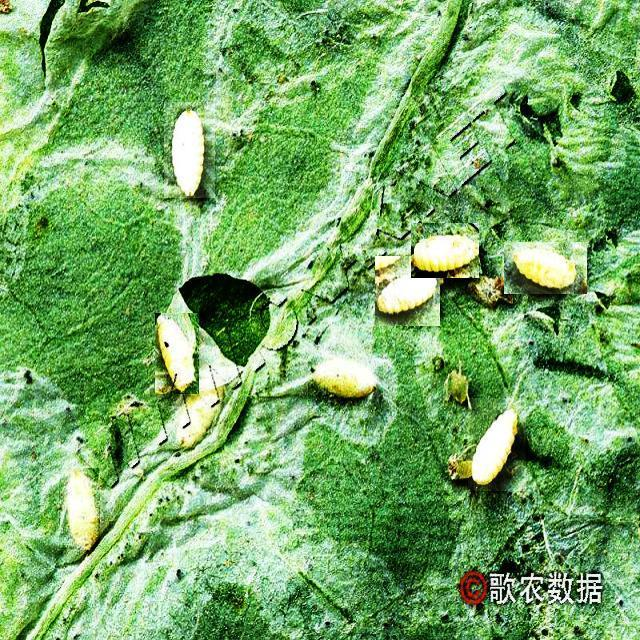whorl-maggot: (468, 398, 526, 491), (164, 102, 215, 198), (308, 346, 383, 411), (375, 256, 440, 326), (504, 242, 587, 294), (411, 223, 479, 278), (155, 313, 199, 394), (59, 468, 100, 549)
